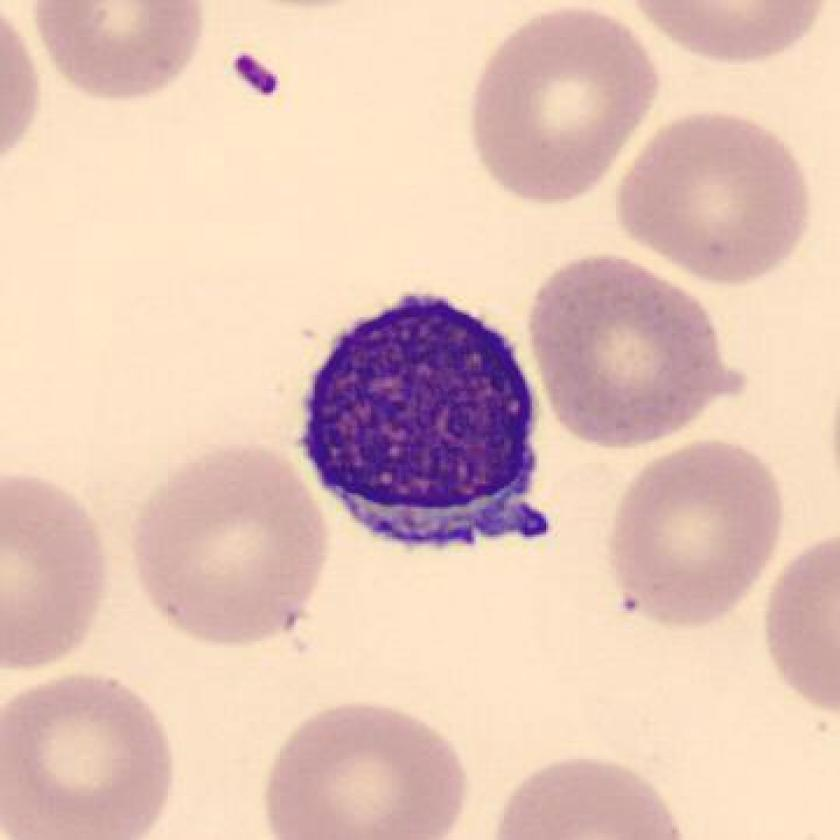lymphocyte: (283, 267, 566, 575)
